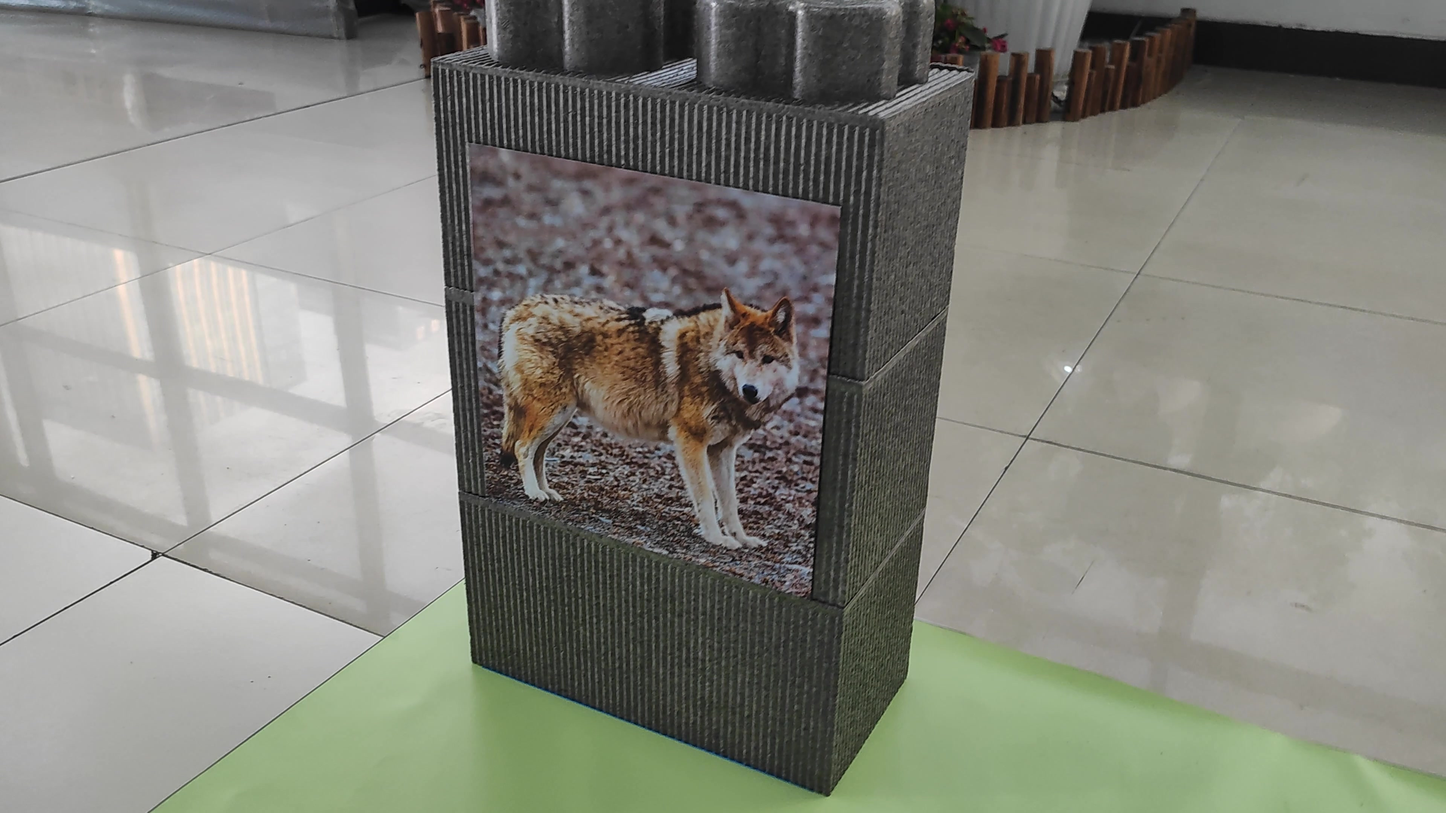wolf: (488, 153, 810, 545)
